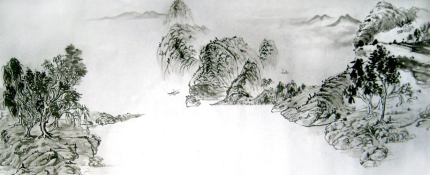range: (160, 23, 407, 147), (302, 18, 415, 66), (96, 3, 202, 31)
tree: (6, 55, 85, 126), (346, 57, 402, 118)
